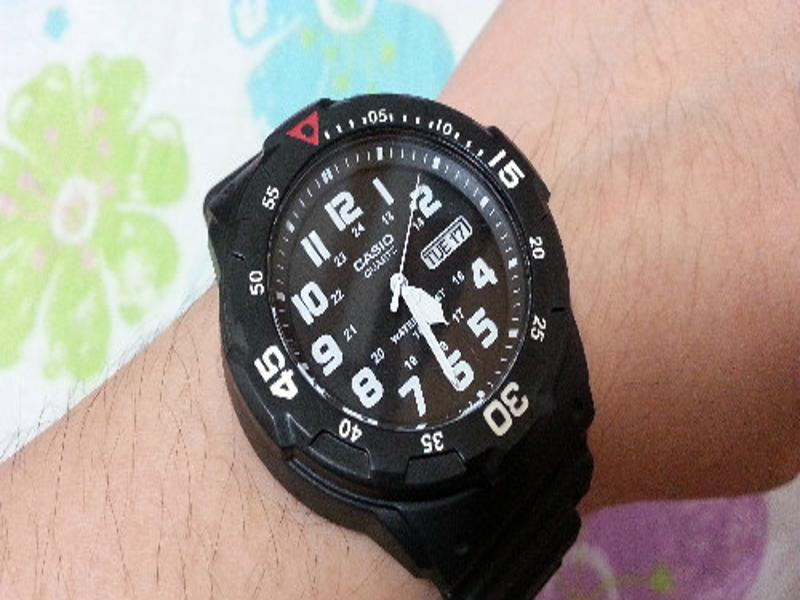watch: (199, 90, 598, 587)
